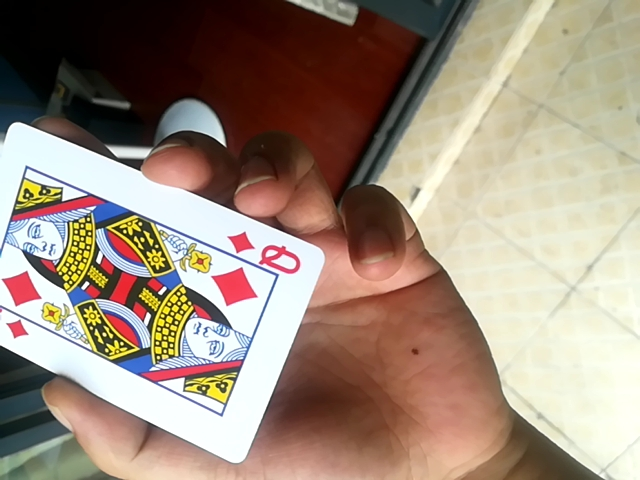fk q: (0, 131, 320, 470)
